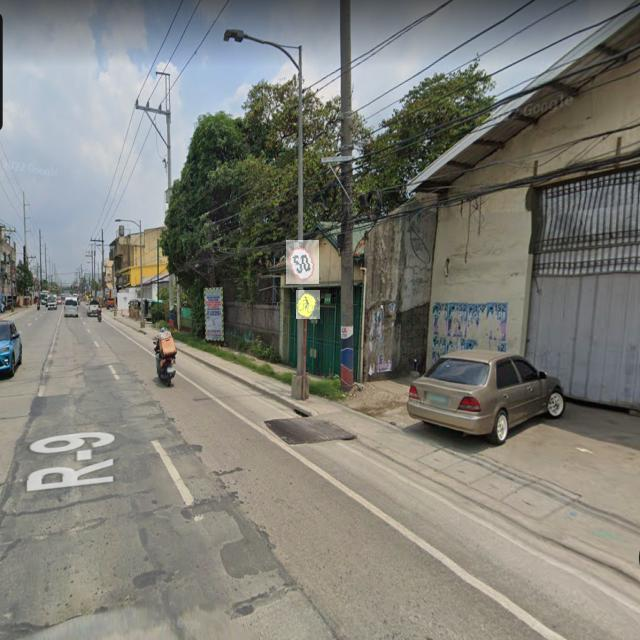50 kph: (286, 241, 319, 285)
bike lane: (296, 290, 320, 319)
